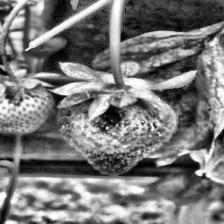Gray Mold: (55, 91, 174, 167)
